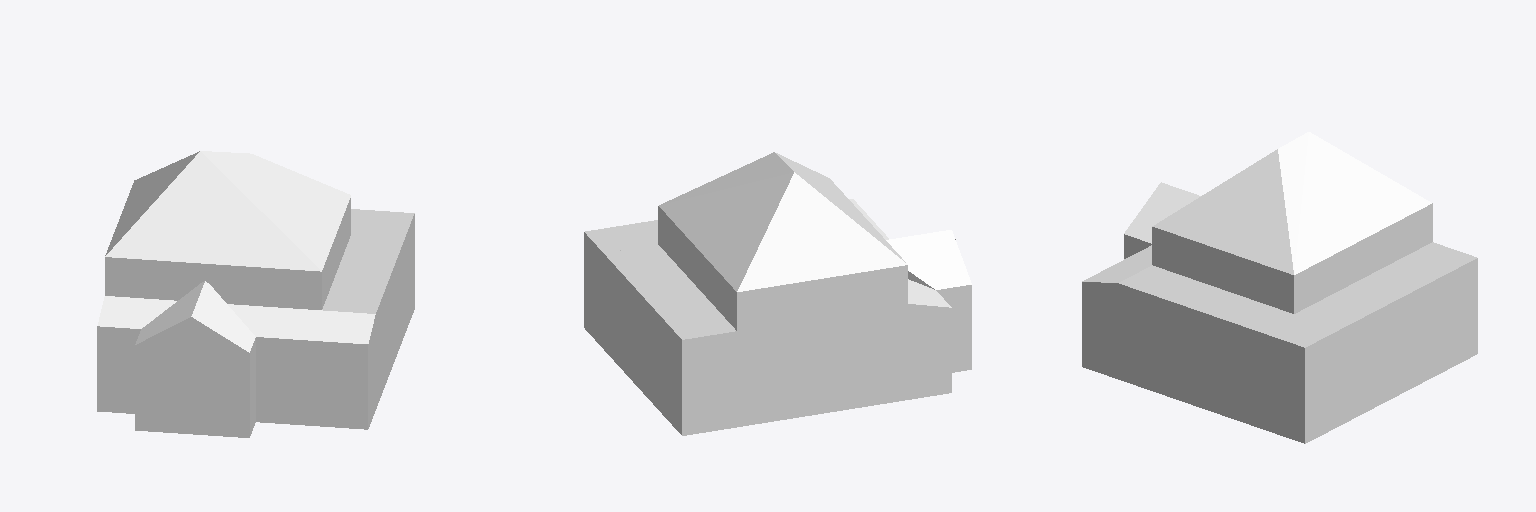
The model's file is house_Shape 345.obj.
3 views of the same model, side by side, from view 1: azimuth 30°, elevation 25°; view 2: azimuth 150°, elevation 25°; view 3: azimuth 270°, elevation 25° (orthographic).
Parts seen in each view (by area): view 1: CityEngineMaterial_233, CityEngineMaterial_38, CityEngineMaterial_234, CityEngineMaterial_235; view 2: CityEngineMaterial_233, CityEngineMaterial_38, CityEngineMaterial_139, CityEngineMaterial_234; view 3: CityEngineMaterial_233, CityEngineMaterial_38, CityEngineMaterial_139, CityEngineMaterial_234.
Boxes of the visible parts, x1=… form: CityEngineMaterial_233: x1=97, y1=198, x2=414, y2=437; CityEngineMaterial_38: x1=98, y1=151, x2=375, y2=352; CityEngineMaterial_234: x1=221, y1=209, x2=414, y2=335; CityEngineMaterial_235: x1=156, y1=317, x2=227, y2=339; CityEngineMaterial_233: x1=620, y1=250, x2=971, y2=435; CityEngineMaterial_38: x1=659, y1=152, x2=971, y2=307; CityEngineMaterial_139: x1=584, y1=206, x2=736, y2=434; CityEngineMaterial_234: x1=585, y1=220, x2=735, y2=339; CityEngineMaterial_233: x1=1082, y1=227, x2=1304, y2=443; CityEngineMaterial_38: x1=1082, y1=132, x2=1431, y2=282; CityEngineMaterial_139: x1=1294, y1=203, x2=1477, y2=443; CityEngineMaterial_234: x1=1119, y1=242, x2=1476, y2=347.
Bounding box in the file's own units: 16.72 × 9.74 × 16.75.